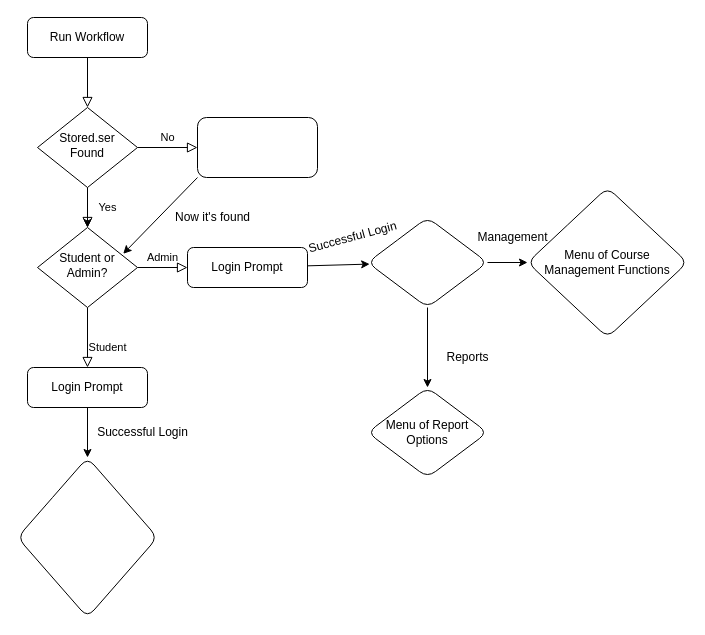
The diagram is 705 pixels wide and 635 high, and some of its shapes have lost their labels. The box of each missing label's shape, as (x1, y1, x2, y2) in pixels:
csv file Read into Stored Lists, serialized into Stored.ser: (196, 116, 318, 178)
Management or Reports: (366, 216, 488, 308)
Menu of Course Management Options: (16, 456, 158, 618)
